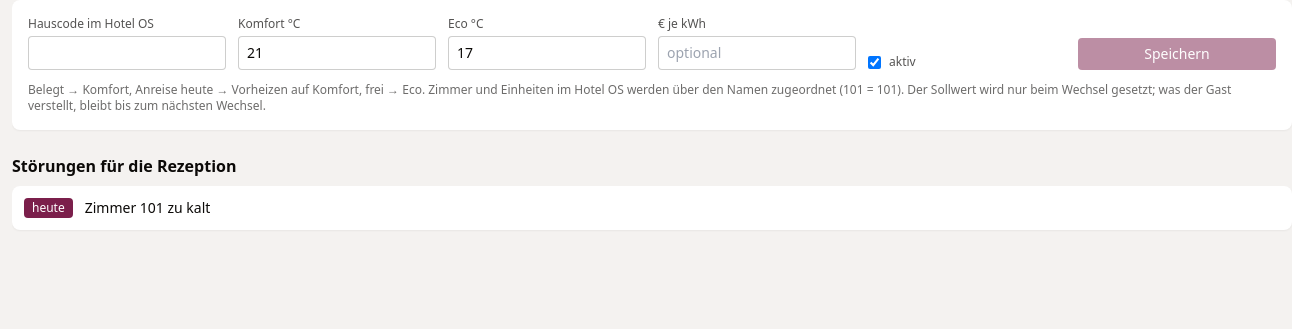
Test: HotelOsTab › links the property and syncs
Type "HAM" into the field labelled "Hauscode im Hotel OS". click: (127, 53)
box: top-left (28, 36), bottom-right (226, 70)
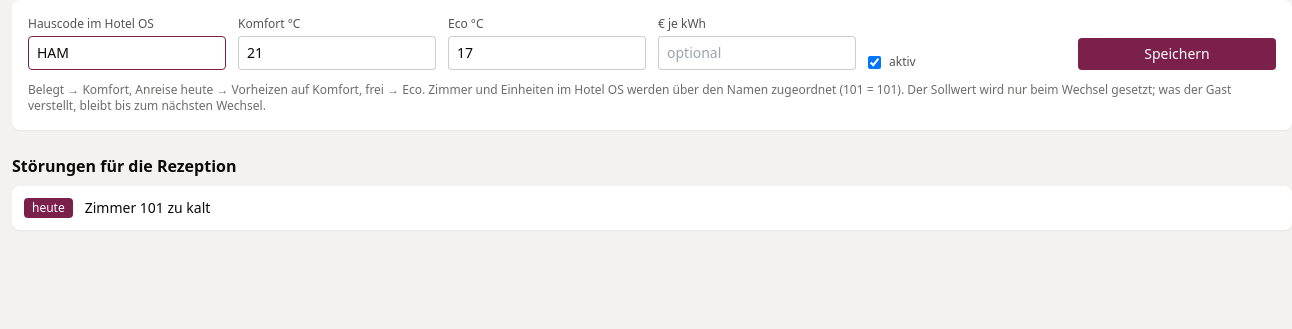
Click the button "Speichern". click: (1177, 54)
box: top-left (1078, 38), bottom-right (1276, 70)
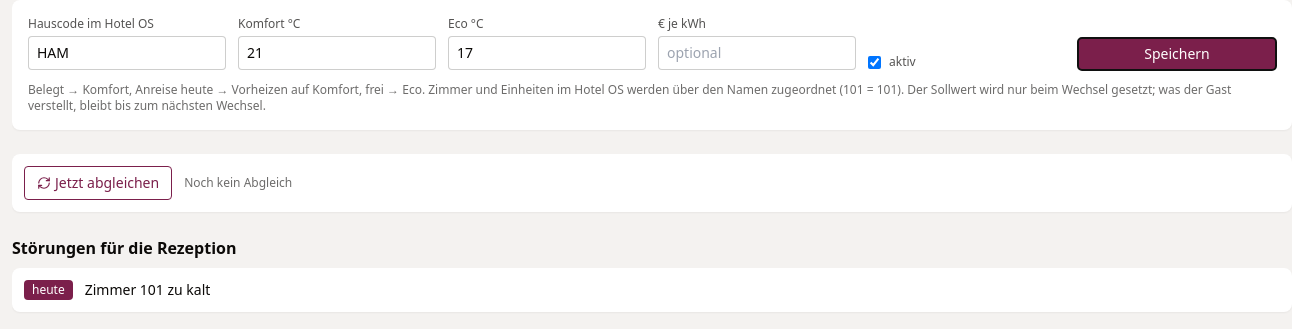
Click the button "Jetzt abgleichen". click: (98, 183)
box: top-left (24, 166), bottom-right (172, 200)
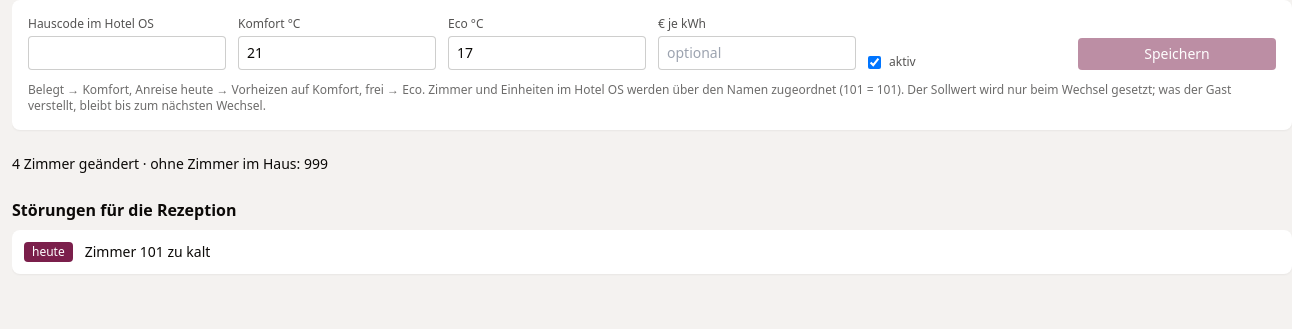
Result: the message reads "4 Zimmer geändert · ohne Zimmer im Haus: 999" at top-left (12, 154), bottom-right (328, 173)
